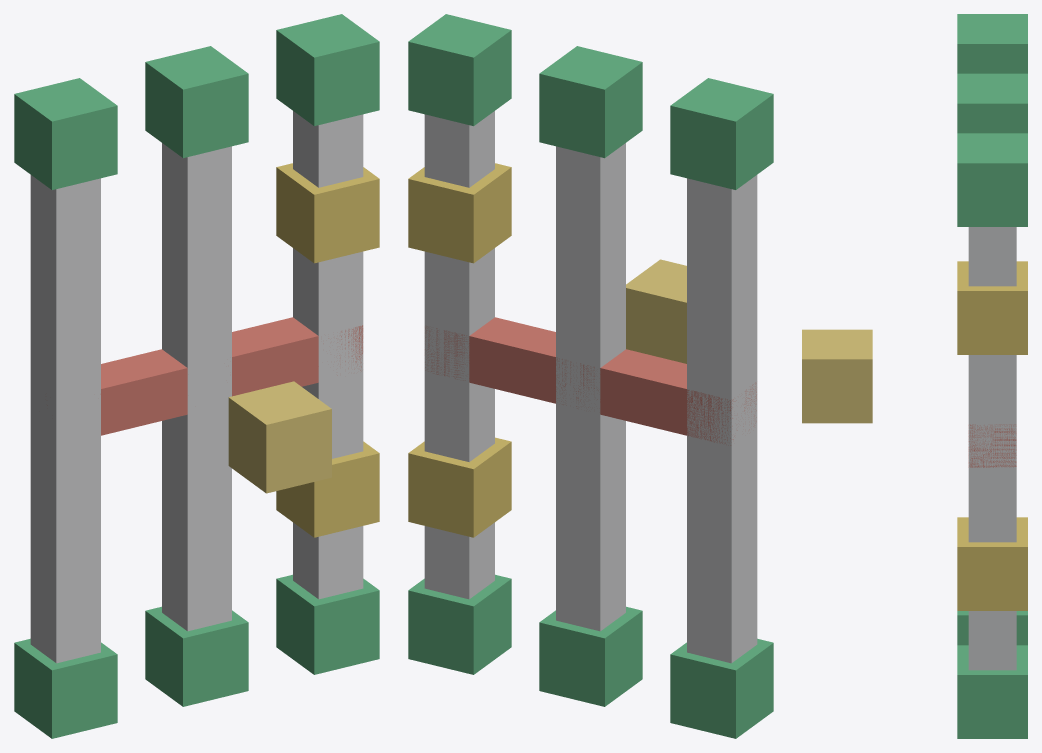
File: ls_toffoli.glb
The picture shows the model from 3 angles, left to right: view 1: azimuth 30°, elevation 25°; view 2: azimuth 150°, elevation 25°; view 3: azimuth 270°, elevation 25°; orthographic projection. The views are drawn at different scales.
Parts seen in each view (by area): view 1: world; view 2: world; view 3: world.
Part boxes in pixels (left/top/right/bottom): world: left=14, top=14, right=379, bottom=738; world: left=408, top=14, right=773, bottom=738; world: left=802, top=14, right=1027, bottom=738.
Bounding box in the file's own units: 2.5 × 4.5 × 1.6.
